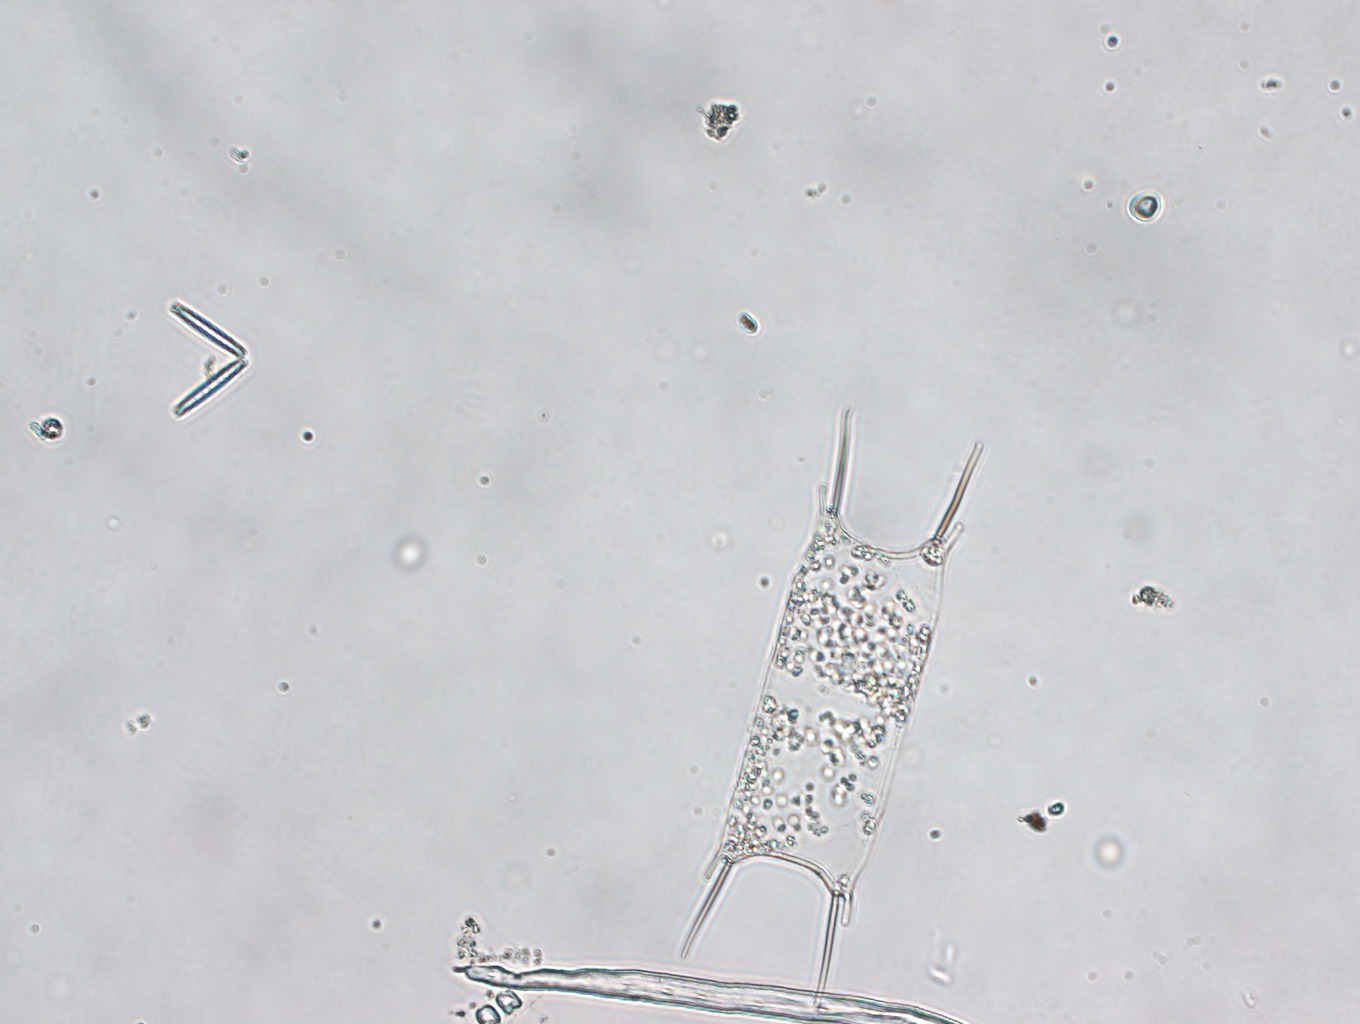biddulphia: (681, 407, 984, 998)
thalassionema nitzschioides: (164, 302, 247, 419)
